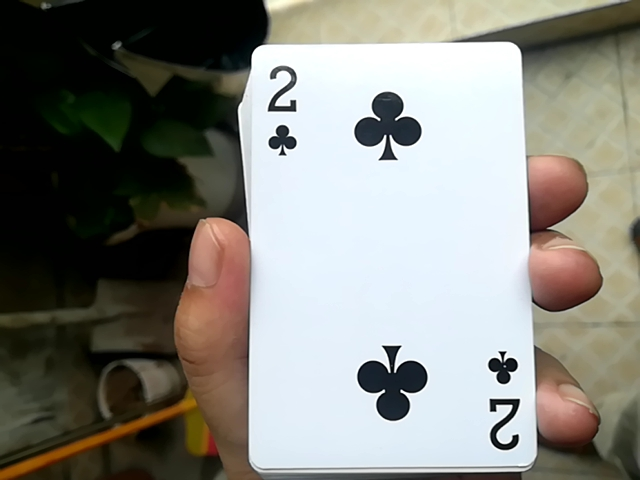mh 2: (233, 37, 534, 474)
